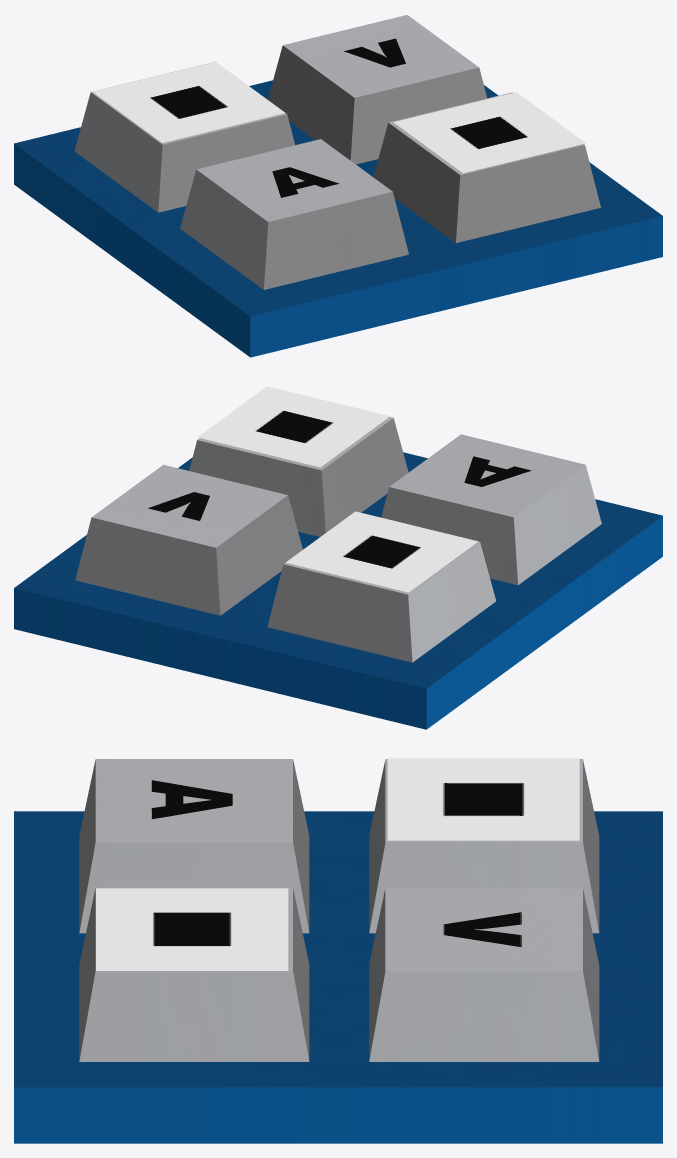
File: SM_Keyboard.fbx
The picture shows the model from 3 angles, top to bottom: view 1: azimuth 30°, elevation 25°; view 2: azimuth 150°, elevation 25°; view 3: azimuth 270°, elevation 25°; orthographic projection. The views are drawn at different scales.
Visible parts, largest first — view 1: SM_Keyboard; view 2: SM_Keyboard; view 3: SM_Keyboard.
Boxes of the visible parts, bbox=[...] form: SM_Keyboard: bbox=[14, 15, 662, 357]; SM_Keyboard: bbox=[14, 386, 662, 729]; SM_Keyboard: bbox=[14, 758, 662, 1143].
Bounding box in the file's own units: 23.25 × 5.55 × 23.09.
